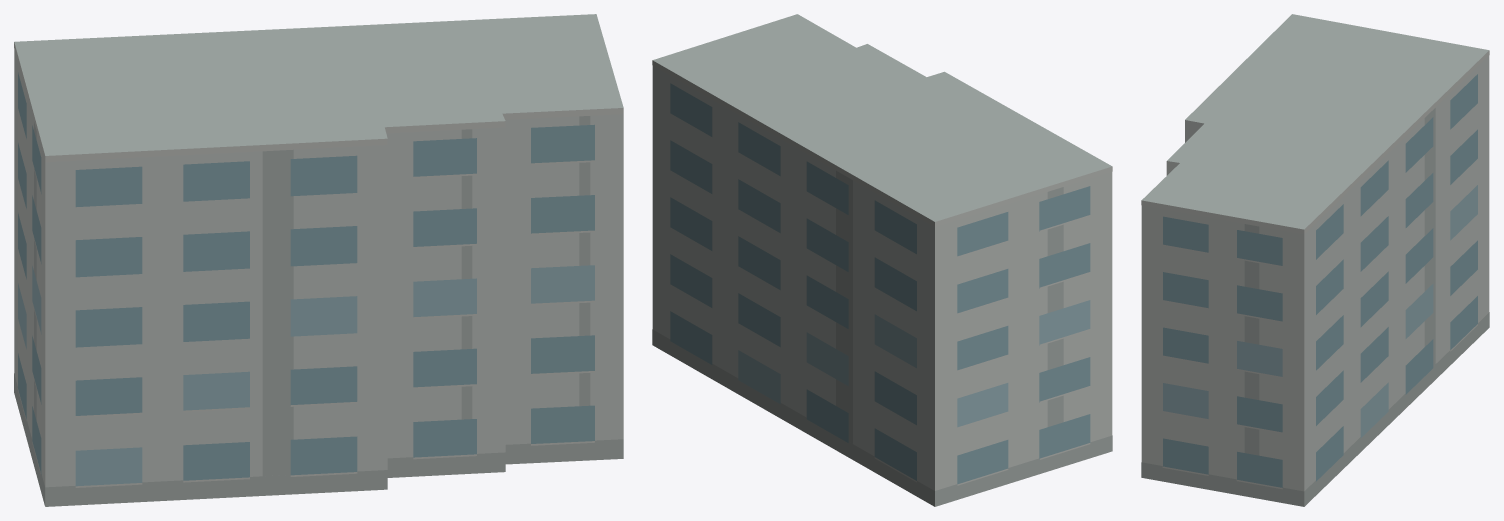
Rendered from survey-upis-32566996.glb.
3 views of the same model, side by side, from view 1: azimuth 30°, elevation 25°; view 2: azimuth 150°, elevation 25°; view 3: azimuth 270°, elevation 25° (orthographic). The views are drawn at different scales.
Visible parts, largest first — view 1: survey-upis-32566996.tmp; view 2: survey-upis-32566996.tmp; view 3: survey-upis-32566996.tmp.
Part boxes in pixels (x1=…): survey-upis-32566996.tmp: x1=14, y1=14, x2=623, y2=506; survey-upis-32566996.tmp: x1=652, y1=14, x2=1112, y2=506; survey-upis-32566996.tmp: x1=1141, y1=14, x2=1489, y2=506.
Size of the model in its own units: 22.34 by 13.4 by 15.25.
